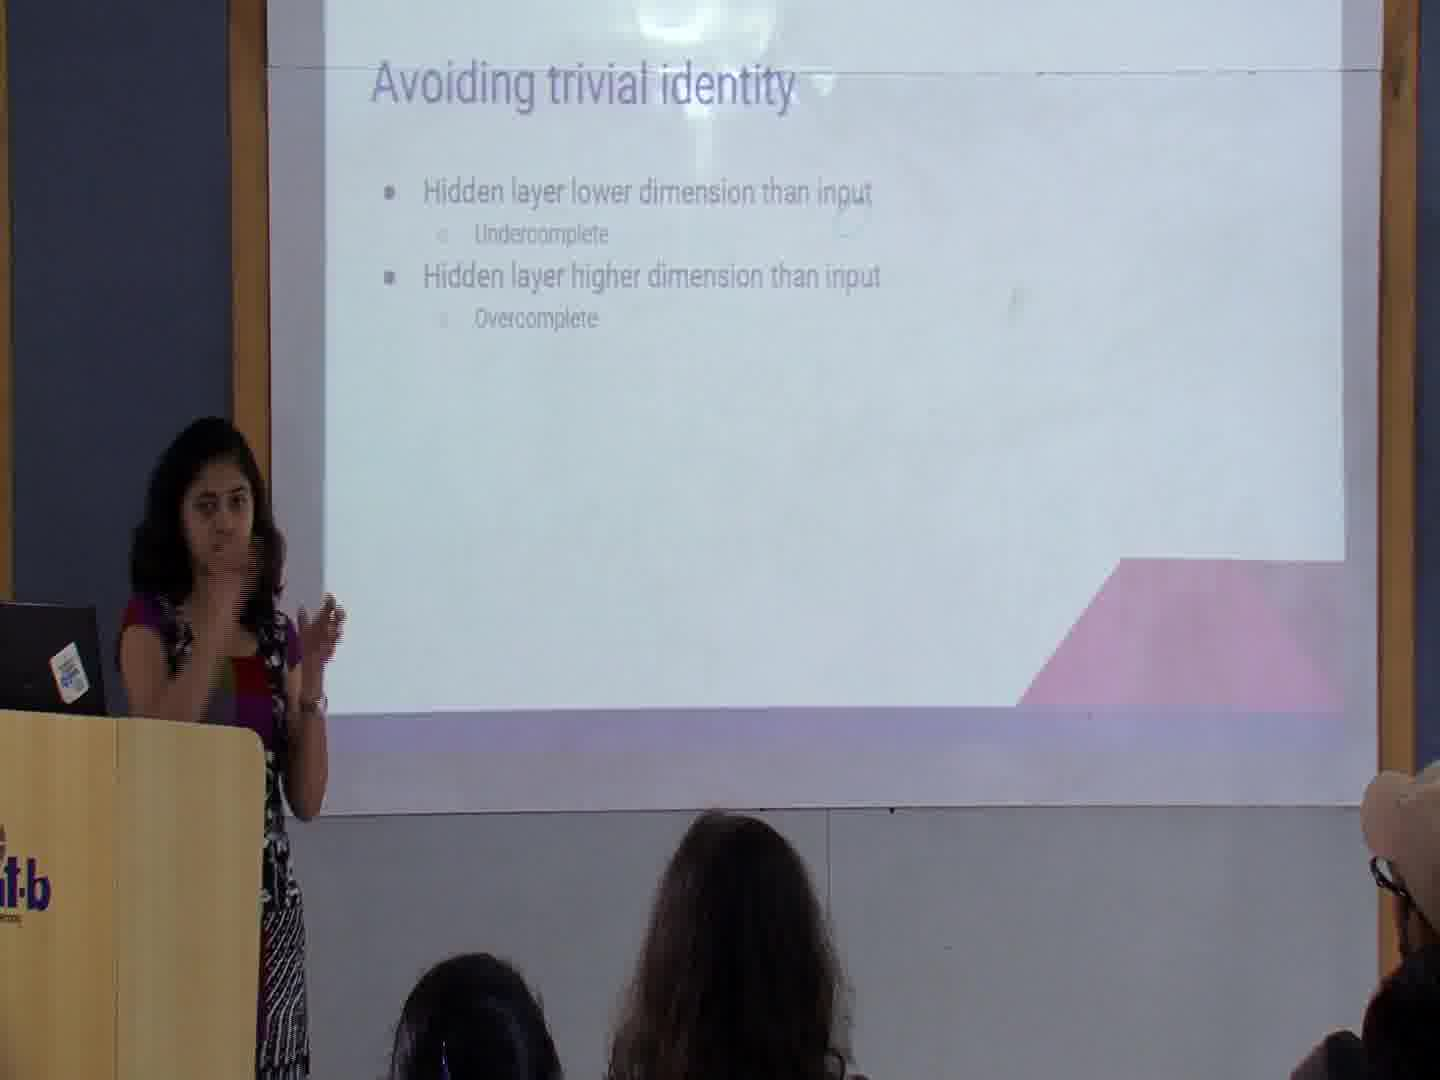slide: (327, 1, 1346, 756)
